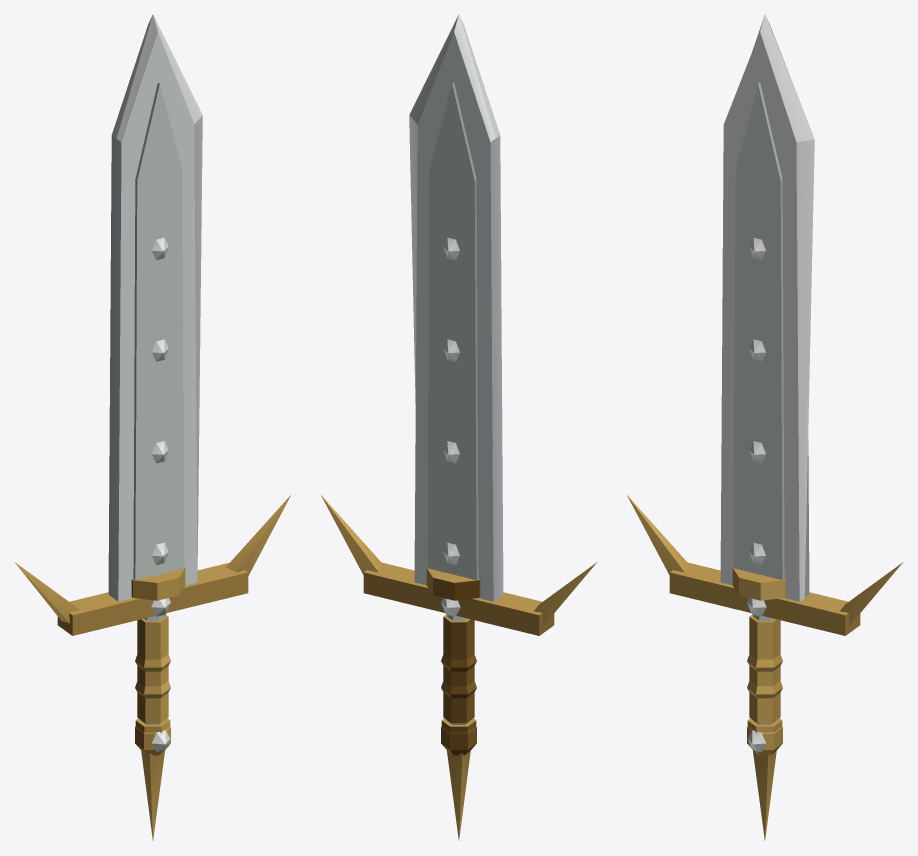
The model's file is knight_runeblade_4.gltf.
3 renders of one model, left to right at view 1: azimuth 30°, elevation 25°; view 2: azimuth 150°, elevation 25°; view 3: azimuth 330°, elevation 25°, orthographic.
Parts seen in each view (by area): view 1: knight_runeblade_4; view 2: knight_runeblade_4; view 3: knight_runeblade_4.
Part boxes in pixels (left/top/right/bottom): knight_runeblade_4: left=15, top=14, right=290, bottom=840; knight_runeblade_4: left=321, top=14, right=596, bottom=840; knight_runeblade_4: left=627, top=14, right=902, bottom=840.
Size of the model in its own units: 0.98 by 2.79 by 0.1848.
Materials: 1 (1 with a texture image).
